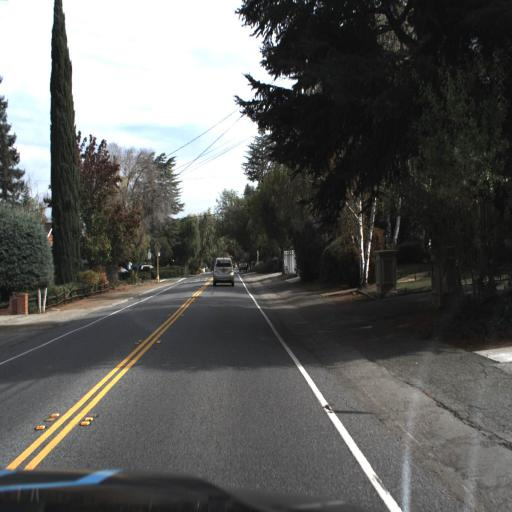car: (211, 258, 239, 294), (238, 259, 248, 276)
